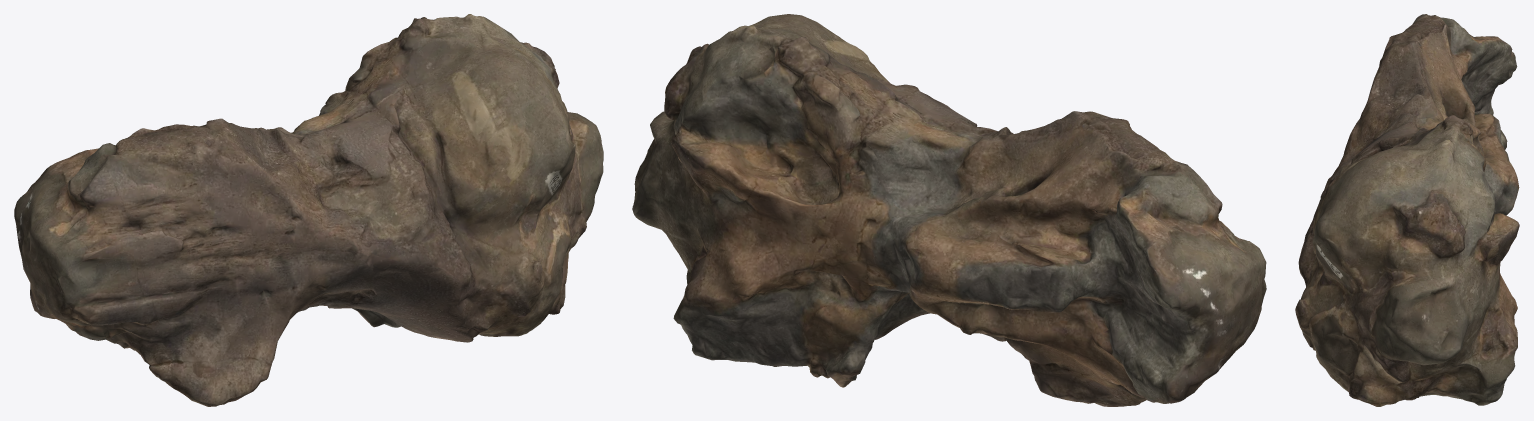
The model's file is chonecetus.glb.
3 views of the same model, side by side, from view 1: azimuth 30°, elevation 25°; view 2: azimuth 150°, elevation 25°; view 3: azimuth 270°, elevation 25° (orthographic). The views are drawn at different scales.
Parts seen in each view (by area): view 1: cf-_Chonecetus_goedertorum-unwrapped-webmulti; view 2: cf-_Chonecetus_goedertorum-unwrapped-webmulti; view 3: cf-_Chonecetus_goedertorum-unwrapped-webmulti.
Boxes of the visible parts, x1=… form: cf-_Chonecetus_goedertorum-unwrapped-webmulti: x1=14, y1=14, x2=603, y2=406; cf-_Chonecetus_goedertorum-unwrapped-webmulti: x1=632, y1=14, x2=1266, y2=406; cf-_Chonecetus_goedertorum-unwrapped-webmulti: x1=1295, y1=14, x2=1519, y2=406.
Bounding box in the file's own units: 0.2473 × 0.1278 × 0.0969.
Materials: 1 (1 with a texture image).
